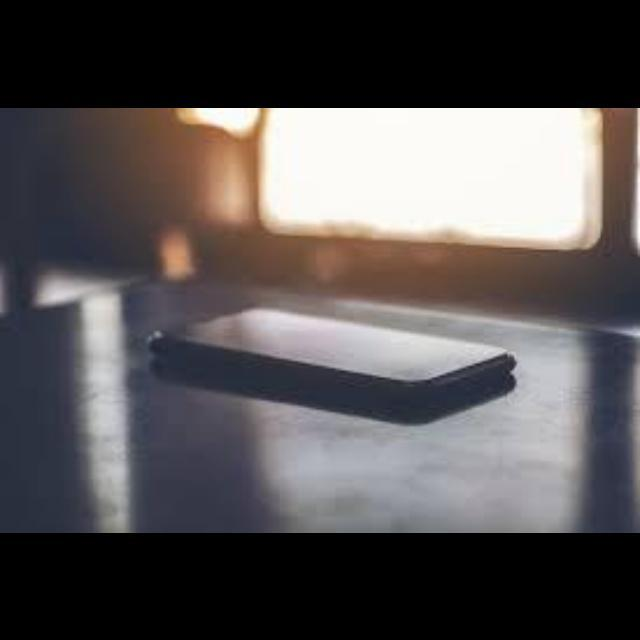PhoneUse: (148, 306, 518, 406)
